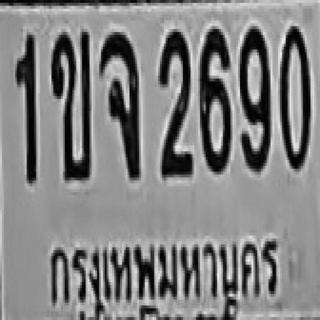A02: (50, 31, 90, 179)
A08: (99, 31, 139, 179)
N00: (278, 23, 310, 169), (238, 26, 270, 172)
N01: (13, 33, 36, 185)
N02: (158, 29, 192, 175)
N06: (198, 28, 230, 173)
N09: (238, 25, 270, 170)
P04: (41, 230, 277, 304)
